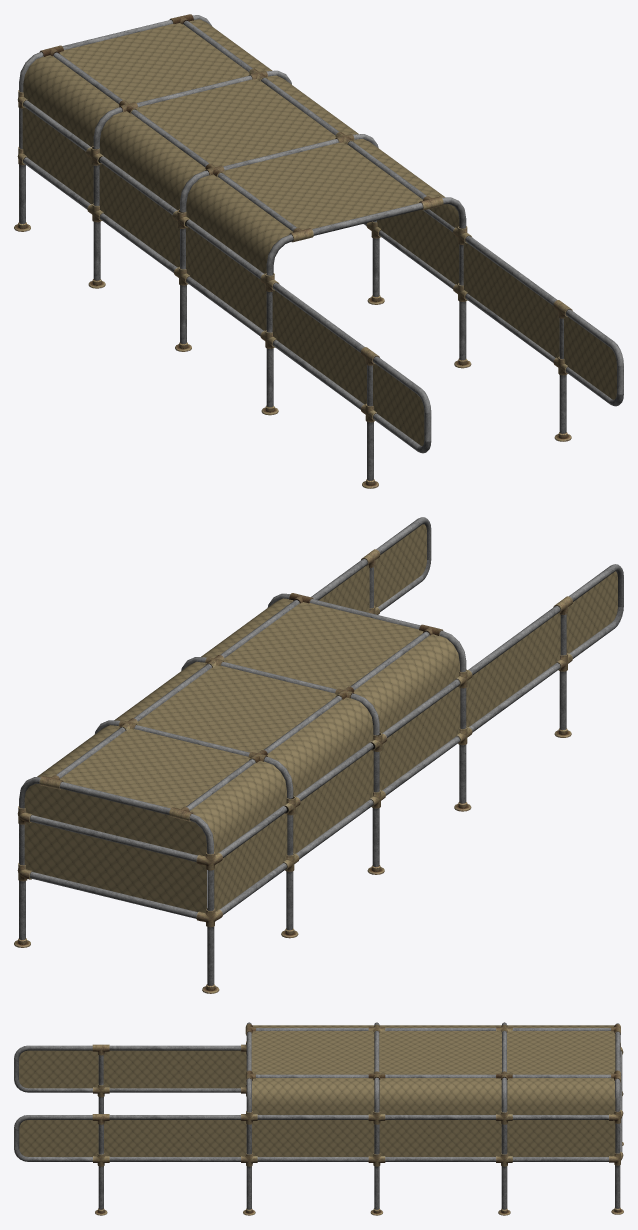
File: 01_02_stairwell_cage.dae
3 views of the same model, one above another, from view 1: azimuth 30°, elevation 25°; view 2: azimuth 150°, elevation 25°; view 3: azimuth 270°, elevation 25° (orthographic). The views are drawn at different scales.
Visible parts, largest first — view 1: chainlink, rail; view 2: chainlink, rail; view 3: chainlink, rail.
Part boxes in pixels (left/top/right/bottom): chainlink: left=22, top=19, right=616, bottom=445; rail: left=14, top=14, right=623, bottom=488; chainlink: left=24, top=524, right=617, bottom=913; rail: left=14, top=517, right=623, bottom=993; chainlink: left=19, top=1025, right=615, bottom=1156; rail: left=14, top=1022, right=623, bottom=1215.
Size of the model in its own units: 2.42 by 1.93 by 8.37.
